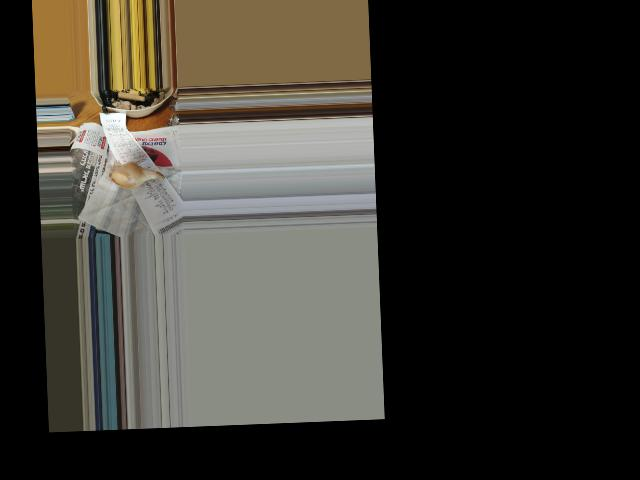onion: (110, 162, 146, 187)
